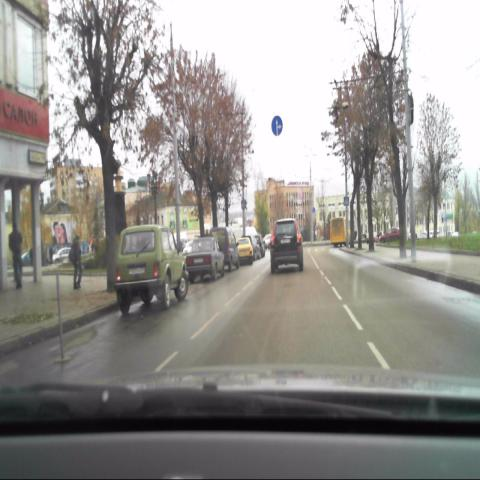4_1_4: (271, 115, 283, 137)
